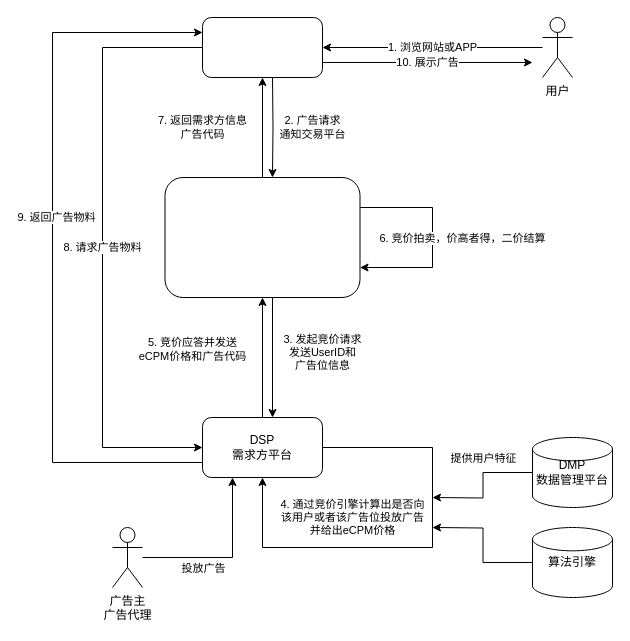
Some shapes in this 630 by 641 pixel diagram are drawn without their labels. Here are the shapes that lost their labels. From the top down, the centre of each, then its label:
point (262, 47): 媒体客户端 流量主
point (262, 237): SSP/ADX 广告交易平台
